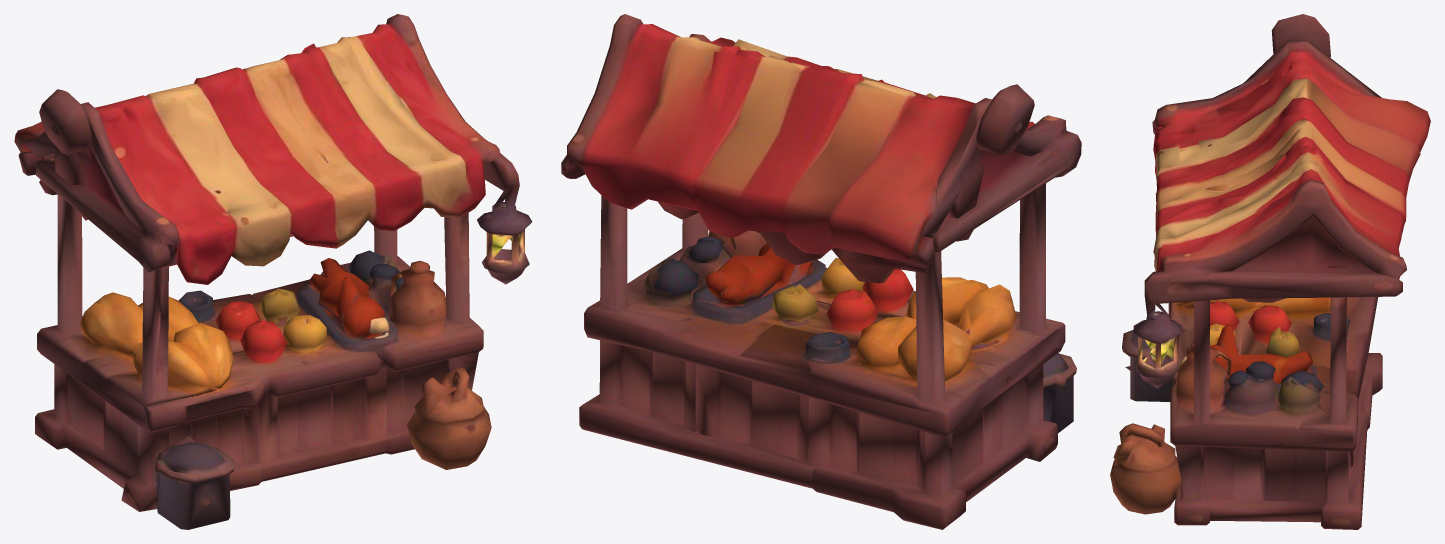
3 views of the same model, side by side, from view 1: azimuth 30°, elevation 25°; view 2: azimuth 150°, elevation 25°; view 3: azimuth 270°, elevation 25° (orthographic). The views are drawn at different scales.
Parts seen in each view (by area): view 1: tripo_node_2d69962d-968f-4235-971d-29e1a63cecd4; view 2: tripo_node_2d69962d-968f-4235-971d-29e1a63cecd4; view 3: tripo_node_2d69962d-968f-4235-971d-29e1a63cecd4.
Boxes of the visible parts, x1,y1,x2,y2 form: tripo_node_2d69962d-968f-4235-971d-29e1a63cecd4: [14, 14, 532, 529]; tripo_node_2d69962d-968f-4235-971d-29e1a63cecd4: [561, 14, 1081, 529]; tripo_node_2d69962d-968f-4235-971d-29e1a63cecd4: [1110, 14, 1430, 529].
Bounding box in the file's own units: 1 × 0.906 × 0.7417.
Materials: 1 (1 with a texture image).
